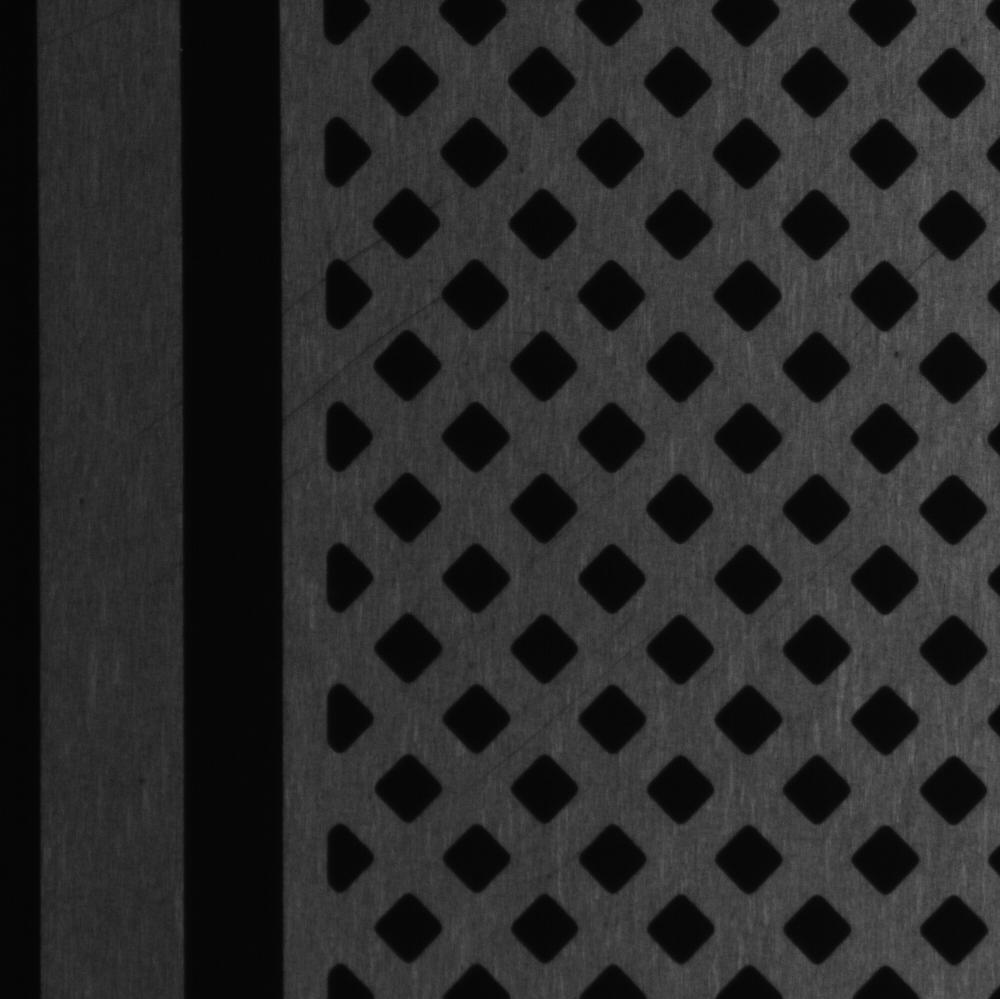Scar: (463, 626, 652, 791), (285, 300, 436, 415), (750, 535, 859, 635), (289, 229, 404, 313), (120, 390, 183, 448), (419, 179, 471, 213), (906, 247, 934, 282)
